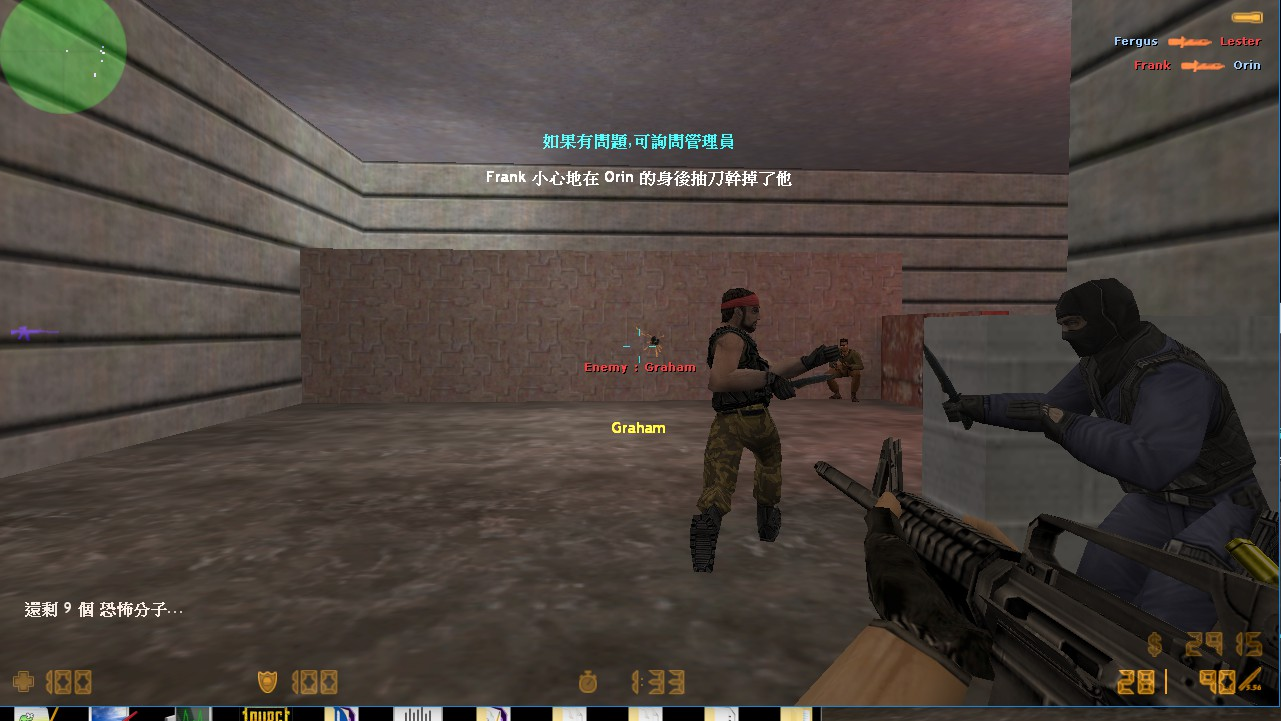person: (684, 272, 805, 586), (823, 337, 869, 400)
